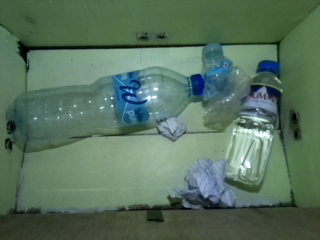bottle: (13, 67, 204, 143), (220, 59, 282, 185)
damaged-bottle: (198, 43, 252, 126)
paper: (168, 155, 238, 212), (154, 117, 186, 142)
